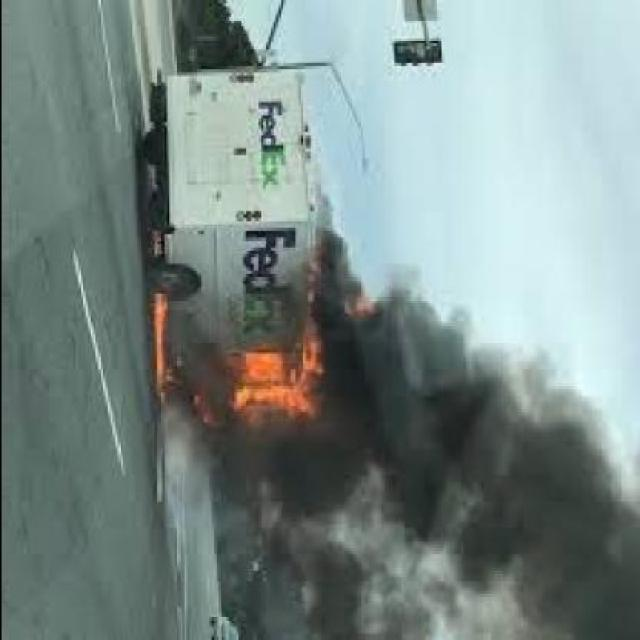Fire: (218, 334, 334, 416), (143, 292, 188, 400)
Smoke: (341, 273, 640, 636), (210, 436, 327, 638)
